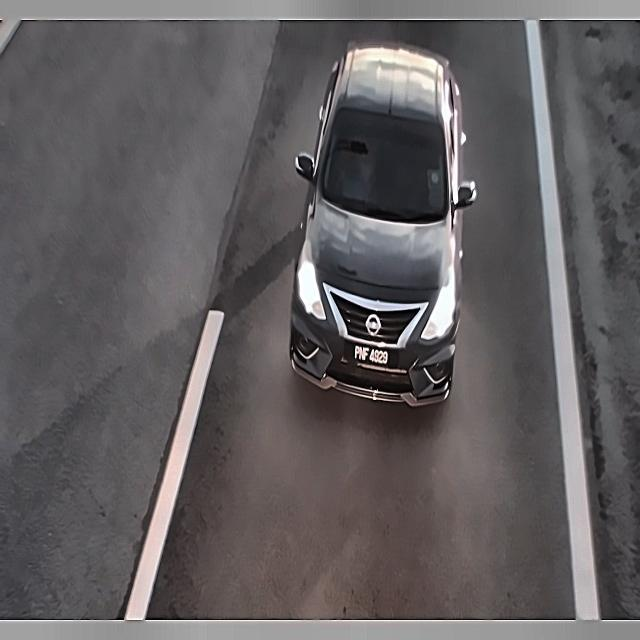car: (341, 337, 402, 376)
